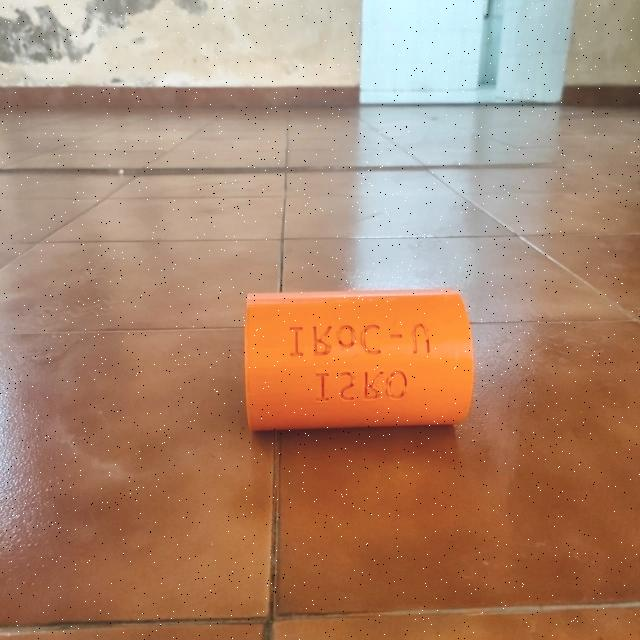Cylinder: (244, 287, 475, 432)
